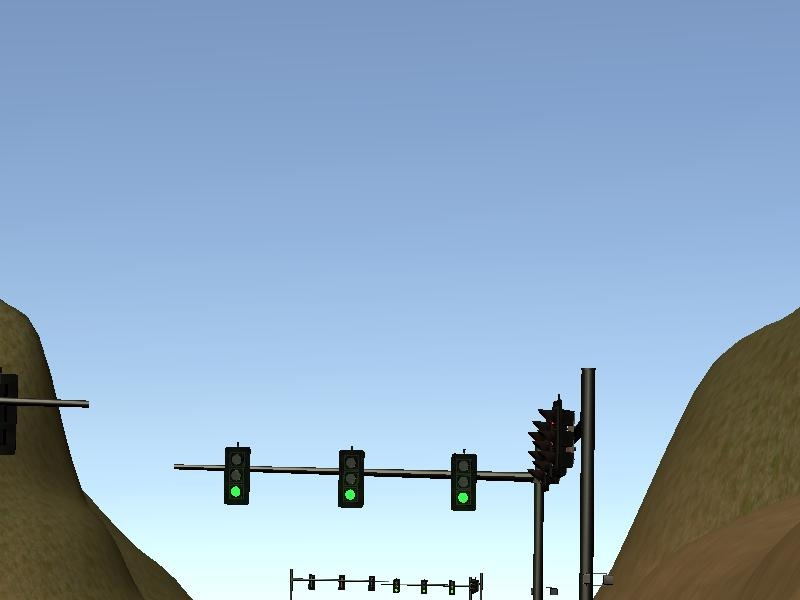GREEN: (449, 451, 477, 514), (222, 447, 251, 507), (336, 450, 365, 510)
